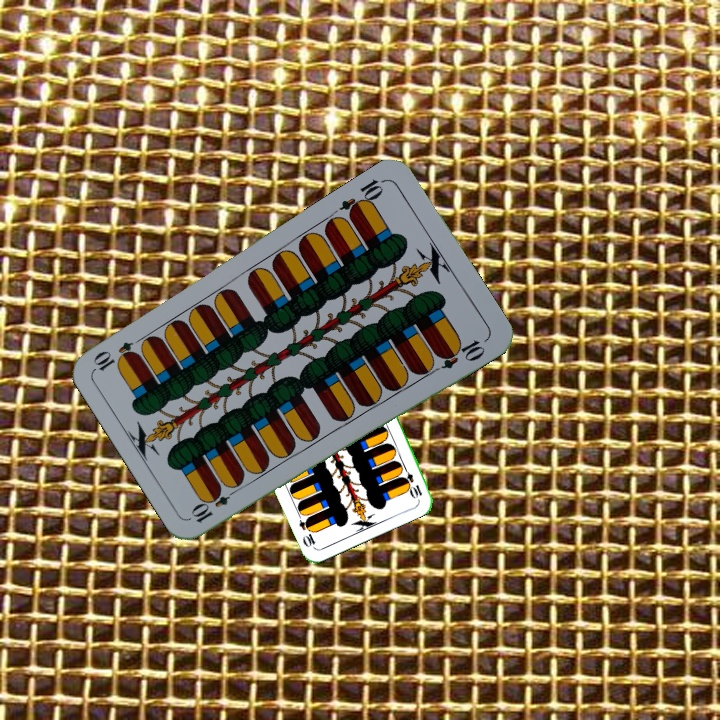E10: (336, 175, 389, 221), (188, 482, 242, 526), (399, 462, 425, 500)
